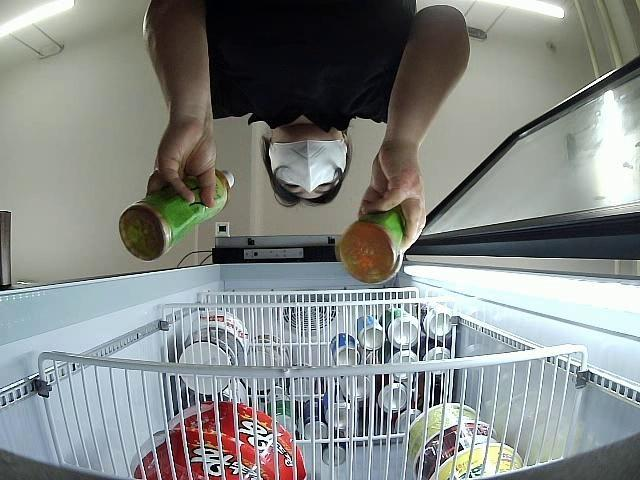19_17cha: (118, 170, 234, 261), (337, 212, 406, 284)
